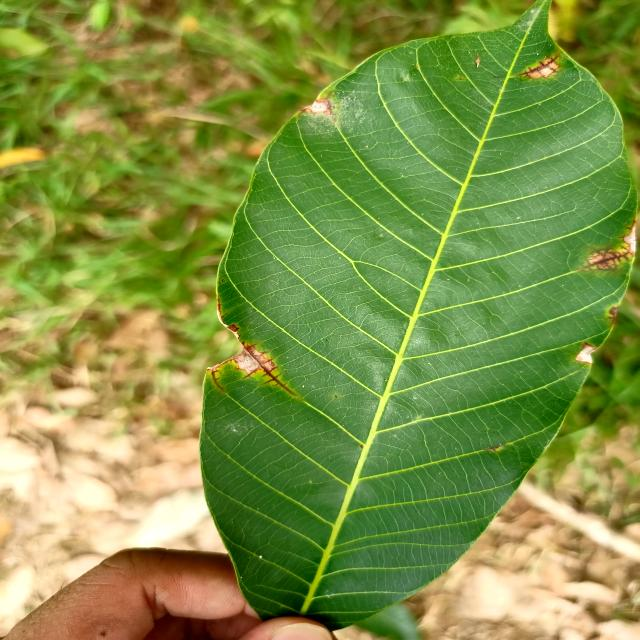Colletotrichum: (271, 363, 275, 366), (361, 445, 363, 448), (236, 361, 238, 363)
Corynespora: (217, 300, 298, 396), (577, 246, 634, 274), (516, 53, 562, 78), (208, 369, 228, 394)
Leaf-Blight: (625, 223, 639, 254), (576, 343, 596, 364), (305, 100, 328, 114)
